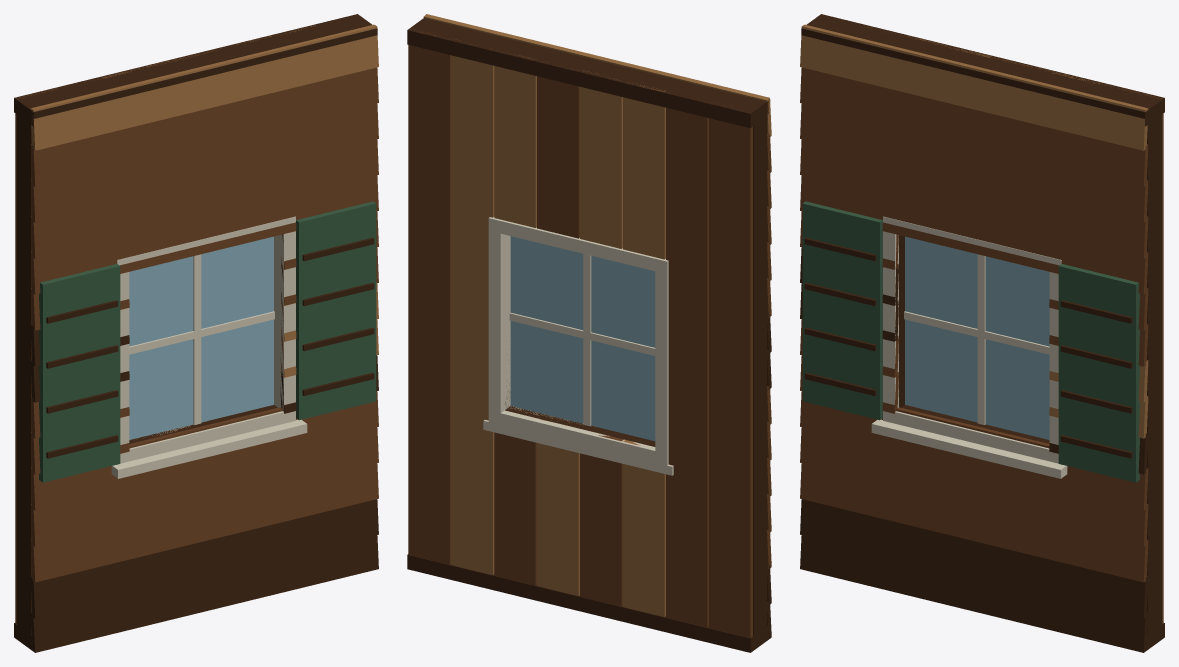
File: SM_Wall_Plank_Window.obj
The picture shows the model from 3 angles, left to right: view 1: azimuth 30°, elevation 25°; view 2: azimuth 150°, elevation 25°; view 3: azimuth 330°, elevation 25°; orthographic projection.
Parts seen in each view (by area): view 1: SM_Wall_Plank_Window; view 2: SM_Wall_Plank_Window; view 3: SM_Wall_Plank_Window.
Boxes of the visible parts, <box> form: SM_Wall_Plank_Window: <box>14,14,378,652</box>; SM_Wall_Plank_Window: <box>407,14,771,652</box>; SM_Wall_Plank_Window: <box>800,14,1164,652</box>.
Size of the model in its own units: 2 by 3.01 by 0.28.
